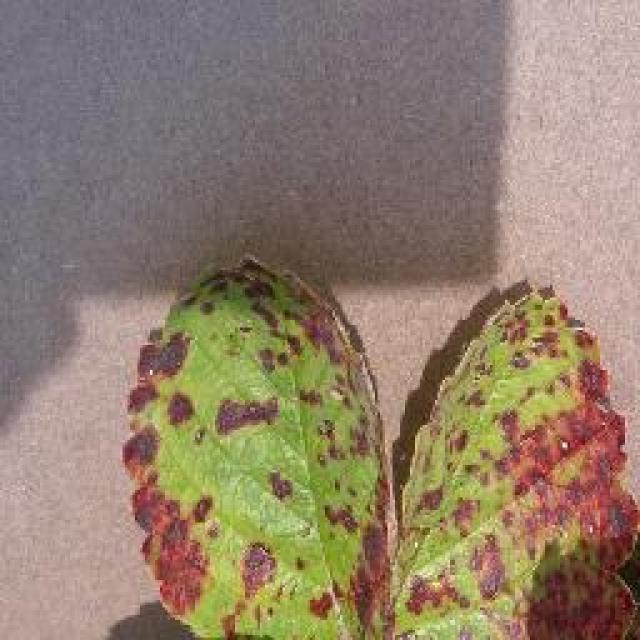Strawberry leaf scorch: (110, 292, 623, 615)
